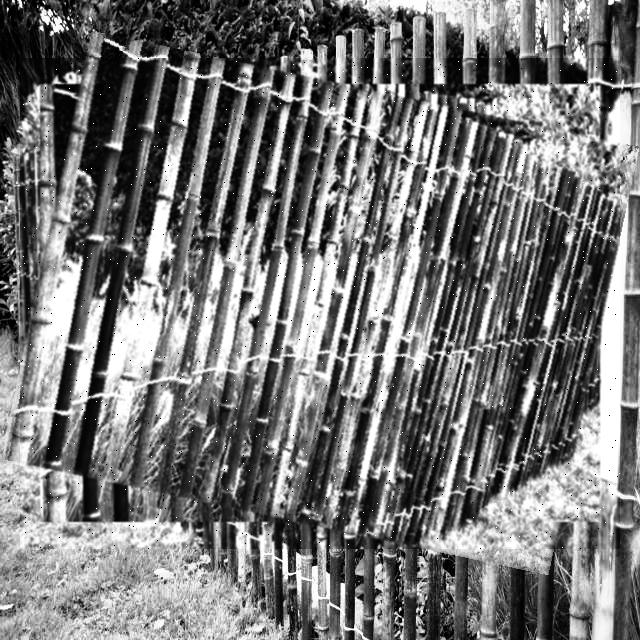fences: (20, 58, 620, 549)
